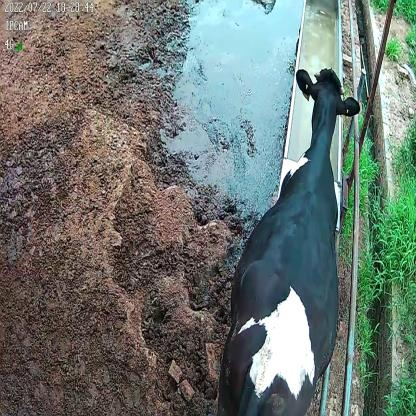cow: (216, 65, 362, 414)
